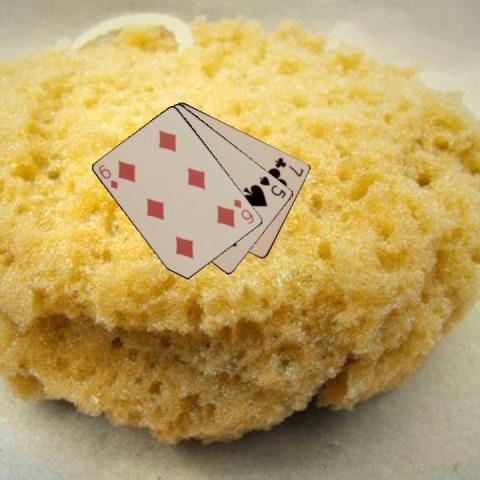5s: (257, 173, 287, 200)
6d: (231, 196, 255, 225), (96, 161, 119, 191)
7c: (272, 154, 305, 178)
